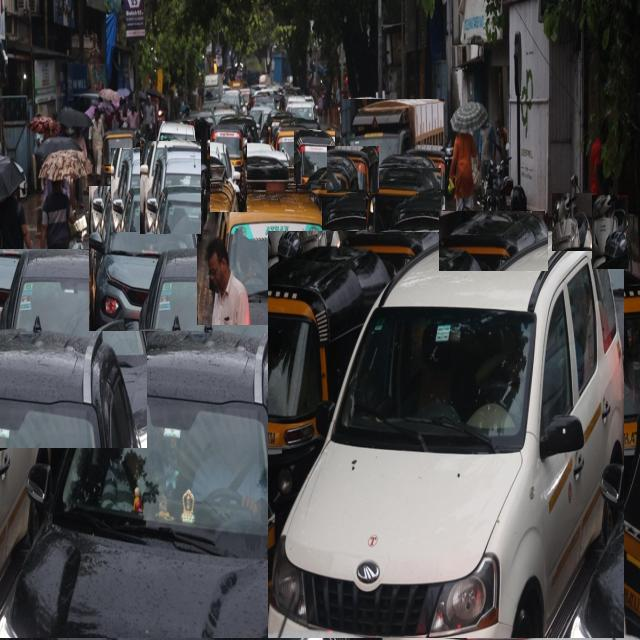autorickshaw: (504, 247, 640, 530), (440, 212, 548, 271), (366, 168, 441, 232), (322, 191, 415, 231), (211, 126, 247, 212), (328, 146, 379, 193), (102, 124, 136, 192), (295, 131, 335, 184), (348, 155, 405, 190), (275, 124, 306, 164)
car: (269, 231, 624, 638), (0, 326, 318, 638), (218, 162, 326, 459), (0, 249, 147, 448), (90, 186, 197, 331), (111, 148, 196, 232), (140, 142, 201, 234), (158, 121, 195, 142)
motorcycle: (592, 195, 628, 269), (552, 193, 594, 251)
truck: (342, 99, 445, 210)
